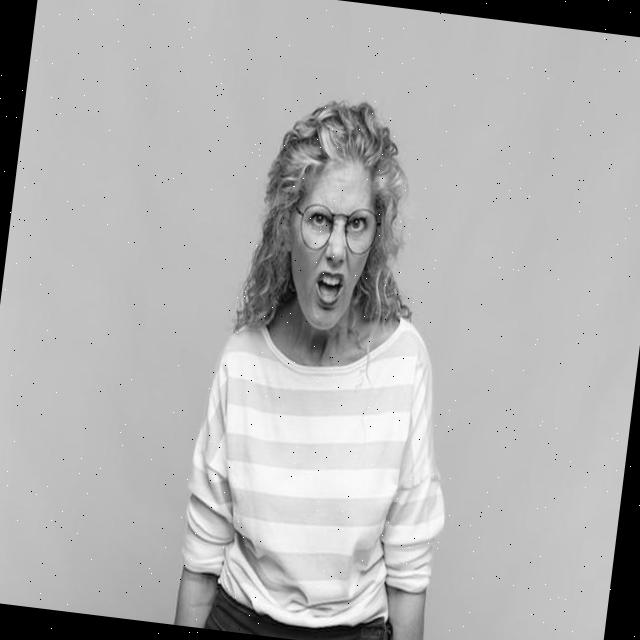Angry: (278, 159, 382, 334)
